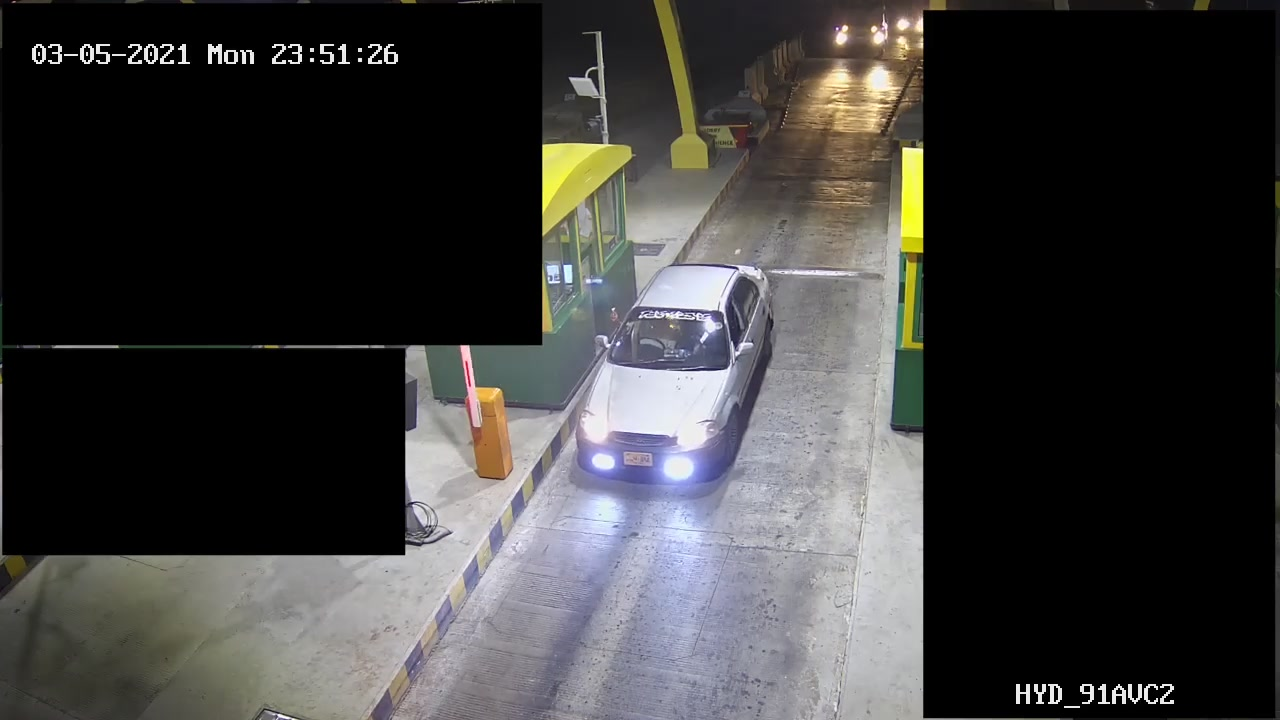F1: (570, 252, 789, 494)
